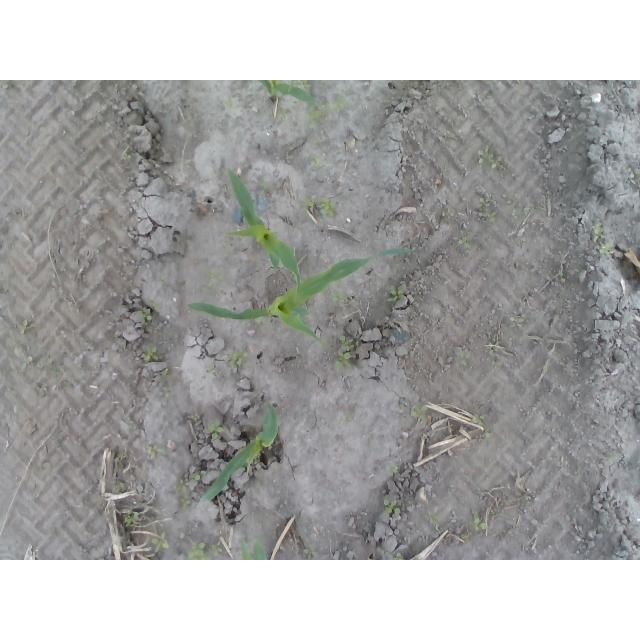Maize: (185, 239, 415, 348), (226, 167, 305, 301), (197, 398, 280, 506), (258, 80, 319, 108), (241, 540, 268, 560)
Weeds: (186, 541, 223, 560), (334, 335, 354, 369), (303, 199, 337, 219), (478, 145, 503, 169), (176, 479, 192, 510), (225, 349, 249, 369), (303, 106, 322, 131), (14, 348, 32, 374), (322, 95, 348, 113), (208, 416, 225, 440), (158, 372, 172, 401), (151, 531, 169, 553), (383, 494, 401, 514), (142, 345, 160, 363), (386, 286, 406, 302), (598, 239, 615, 257), (307, 155, 326, 170), (592, 223, 607, 241), (121, 510, 140, 524), (411, 403, 430, 417), (257, 176, 269, 196), (138, 308, 155, 322), (301, 548, 319, 561), (112, 479, 128, 493), (207, 268, 225, 280), (288, 80, 313, 88), (474, 515, 487, 530), (224, 95, 237, 110), (510, 315, 526, 327), (458, 350, 470, 366), (146, 444, 158, 459), (457, 238, 472, 250), (476, 196, 489, 209), (511, 208, 529, 217), (486, 210, 498, 223), (471, 415, 485, 426), (384, 463, 399, 473), (331, 291, 346, 301), (278, 111, 290, 122), (625, 167, 635, 180), (191, 287, 210, 293), (388, 553, 404, 560), (191, 471, 202, 481), (127, 155, 142, 162), (21, 320, 28, 335), (430, 515, 439, 525), (207, 367, 216, 377), (152, 304, 160, 313), (192, 415, 200, 421)
